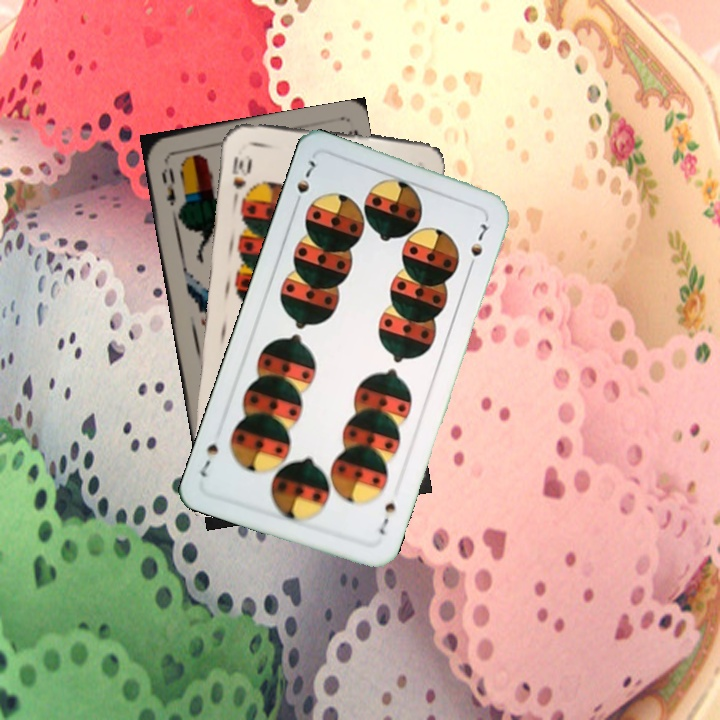EO: (157, 164, 178, 208)
S10: (228, 152, 252, 204)
S7: (290, 156, 318, 211), (375, 498, 398, 538)
